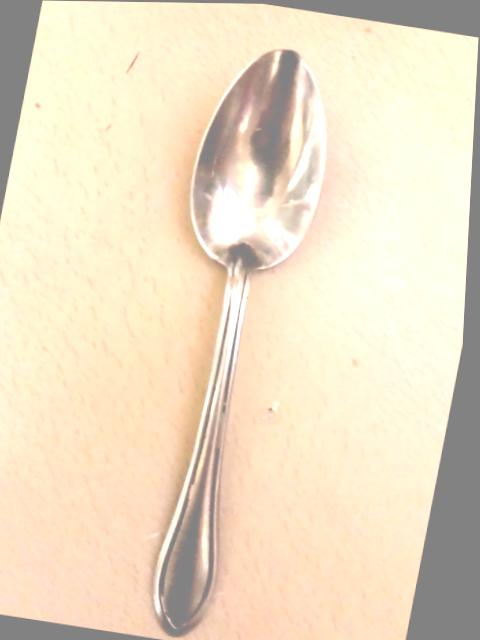Spoon: (154, 50, 325, 635)
